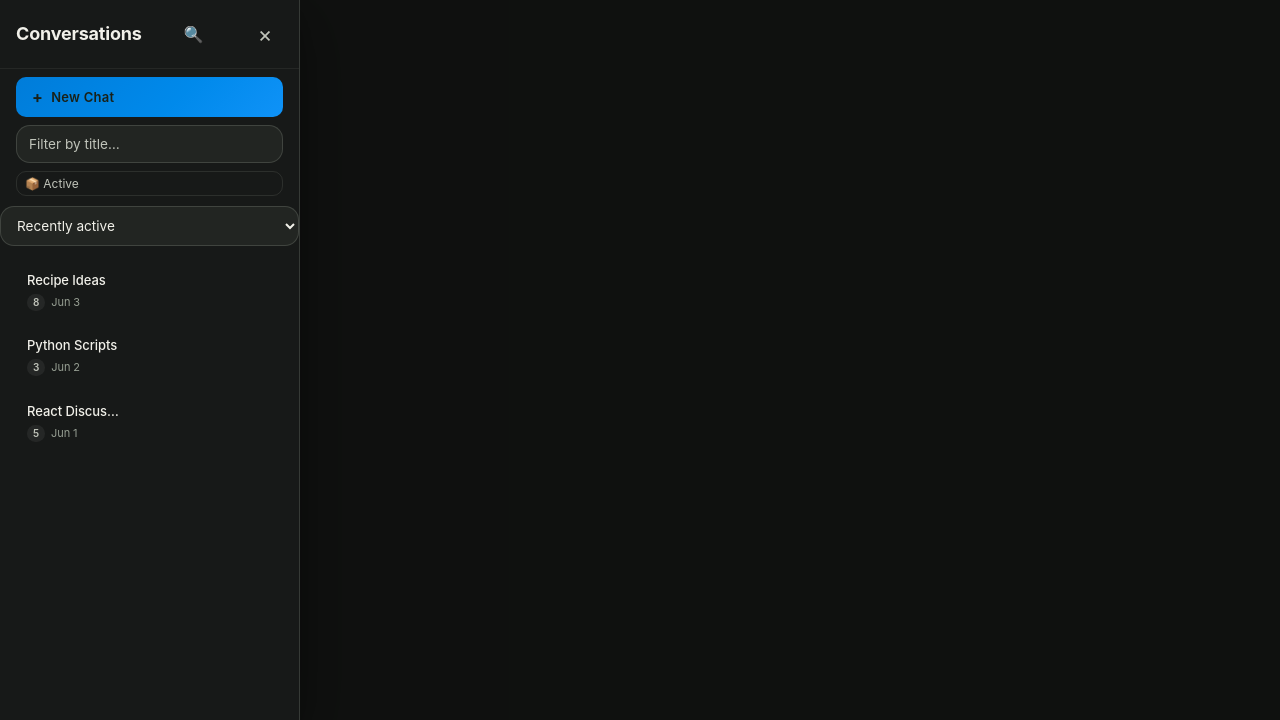
Test: ConversationSidebar quick filter › shows "No matches" when filter has no results
Expected: the text "React Discussion" is shown, x1=27 y1=401 x2=119 y2=422
Type "zzzzz" into the field with placeholder "Filter by title…" at (150, 144), box x1=16 y1=125 x2=283 y2=163
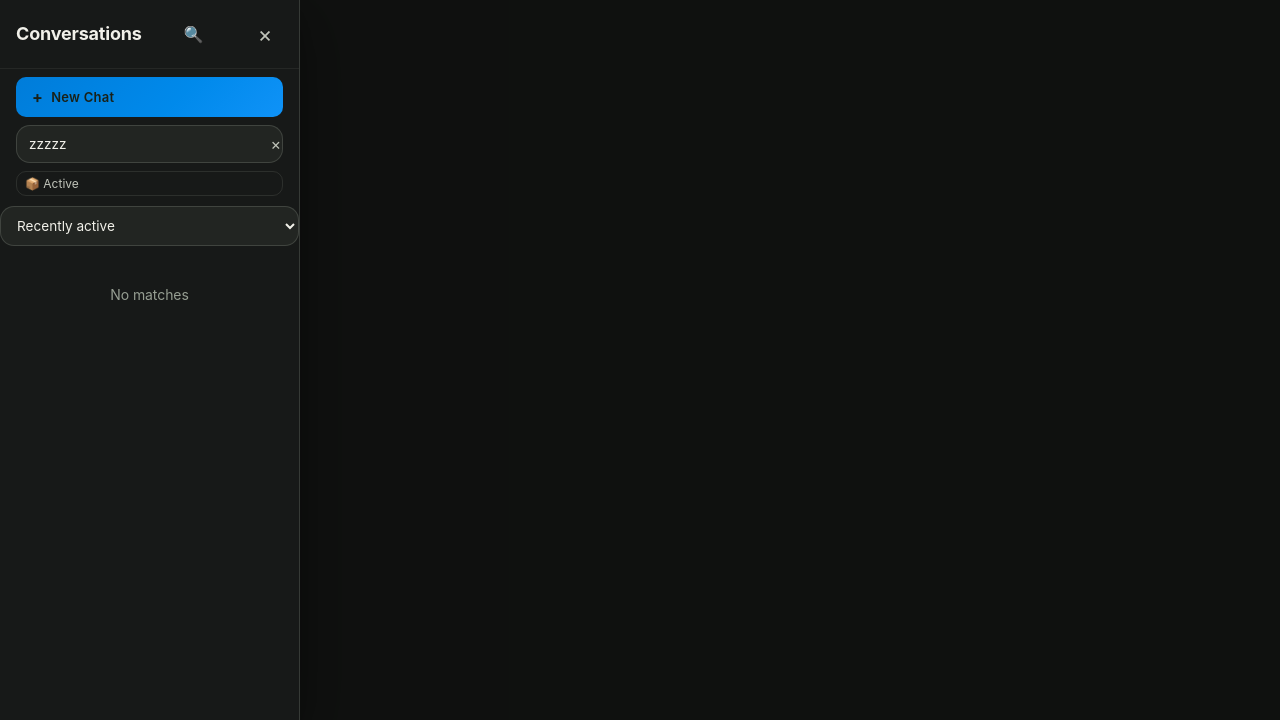
Now the text "No matches" is shown, box x1=110 y1=286 x2=189 y2=303
